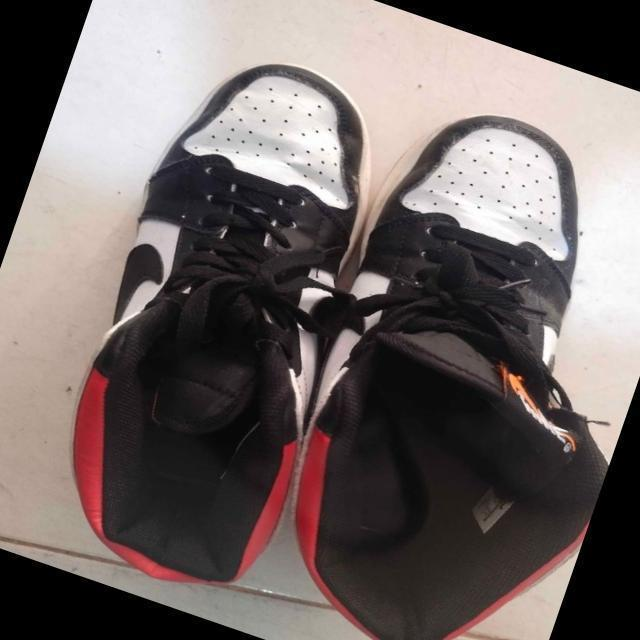nike fake jordan 1: (14, 26, 420, 614), (224, 78, 640, 640)
